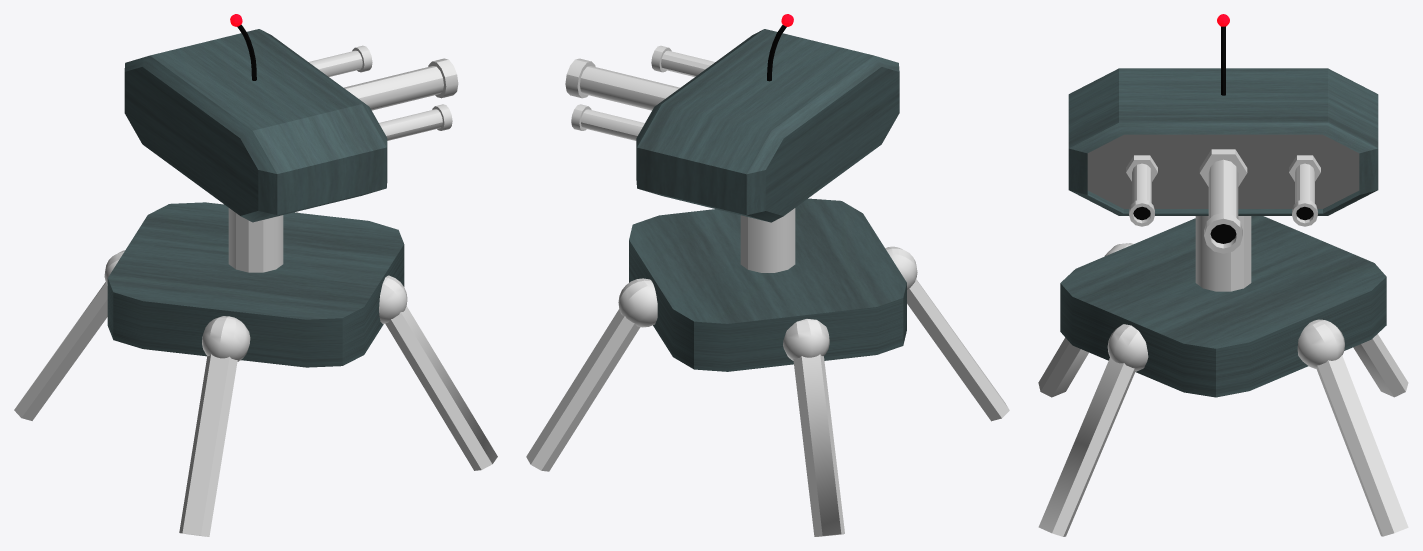
The model's file is turret_rapid.glb.
The picture shows the model from 3 angles, left to right: view 1: azimuth 30°, elevation 25°; view 2: azimuth 150°, elevation 25°; view 3: azimuth 270°, elevation 25°; orthographic projection.
Visible parts, largest first — view 1: Base, Head, Cannon, Cannon.001; view 2: Base, Head, Cannon, Cannon.001; view 3: Base, Head, Cannon, Cannon.001, Sphere.
Part boxes in pixels (x1,y1,x2,y2): Base: [14, 202, 497, 536]; Head: [124, 29, 387, 222]; Cannon: [344, 58, 458, 110]; Cannon.001: [309, 45, 452, 140]; Base: [526, 198, 1009, 536]; Head: [636, 29, 899, 222]; Cannon: [565, 58, 679, 110]; Cannon.001: [571, 45, 714, 140]; Base: [1038, 216, 1408, 536]; Head: [1068, 68, 1378, 215]; Cannon: [1199, 149, 1247, 253]; Cannon.001: [1126, 155, 1320, 226]; Sphere: [1217, 14, 1229, 95].
Bounding box in the file's own units: 5.42 × 6.39 × 4.88.
Materials: 5 (1 with a texture image).
